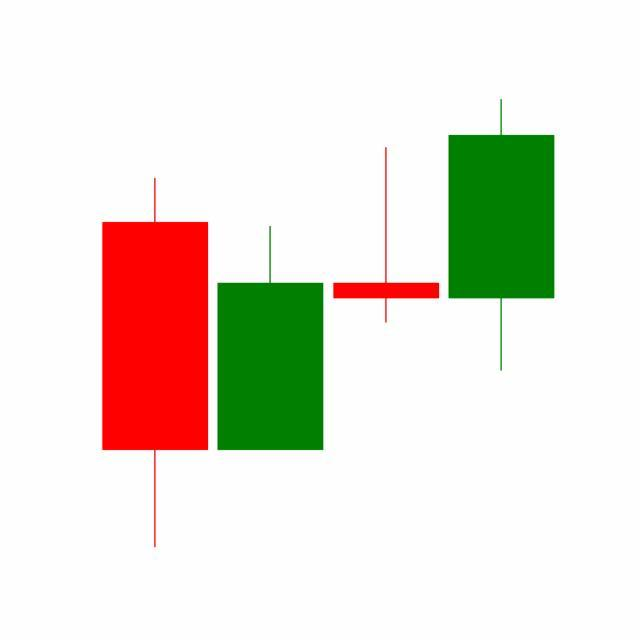Spinning Top: (329, 147, 445, 326)
